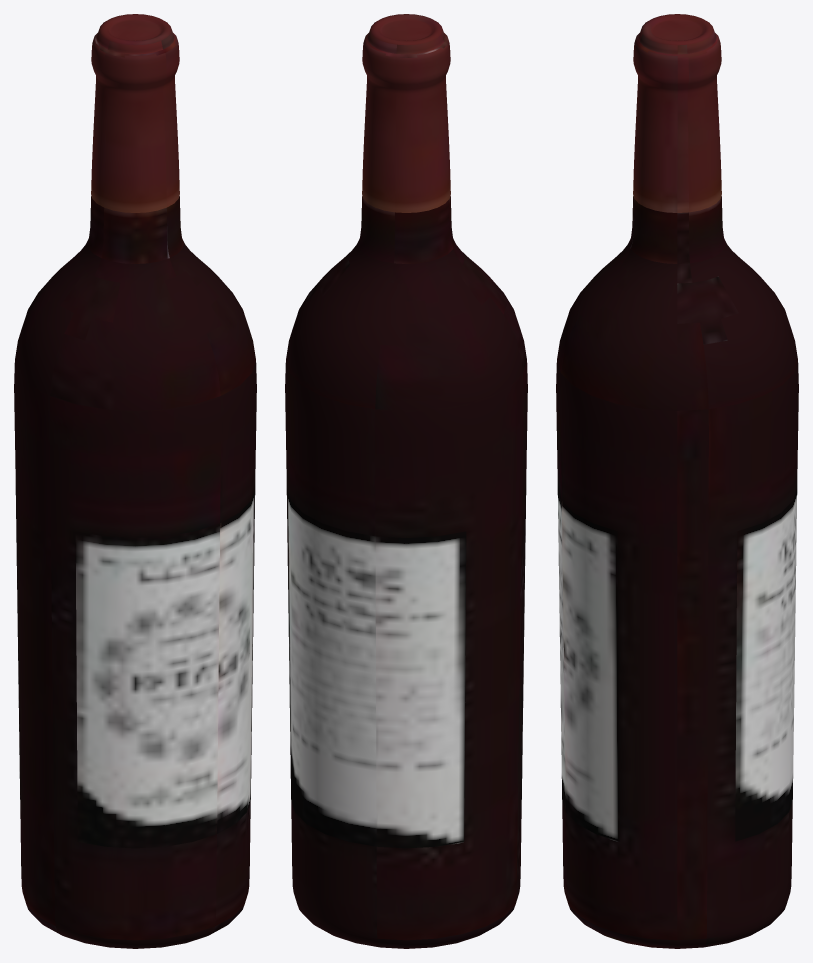
Rendered from wine_bottle.glb.
The picture shows the model from 3 angles, left to right: view 1: azimuth 30°, elevation 25°; view 2: azimuth 150°, elevation 25°; view 3: azimuth 270°, elevation 25°; orthographic projection.
Parts seen in each view (by area): view 1: wine_bottle; view 2: wine_bottle; view 3: wine_bottle.
Boxes of the visible parts, x1,y1,x2,y2 form: wine_bottle: (14, 14, 256, 948); wine_bottle: (285, 14, 527, 948); wine_bottle: (556, 14, 798, 948).
Bounding box in the file's own units: 0.075 × 0.3 × 0.075.
Materials: 1 (1 with a texture image).
